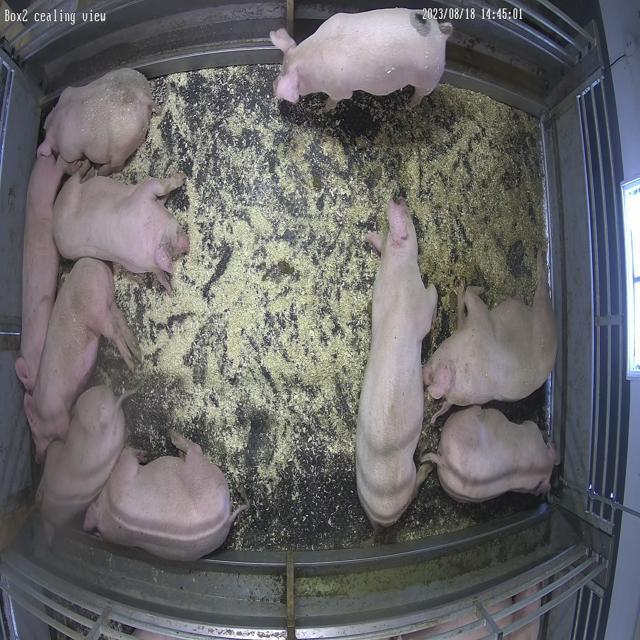Pig: (15, 68, 154, 394), (357, 199, 438, 528), (424, 251, 558, 422), (28, 258, 138, 460), (84, 433, 240, 562), (272, 7, 453, 108), (53, 173, 189, 273), (423, 406, 557, 502), (35, 386, 125, 526), (45, 68, 156, 175)
